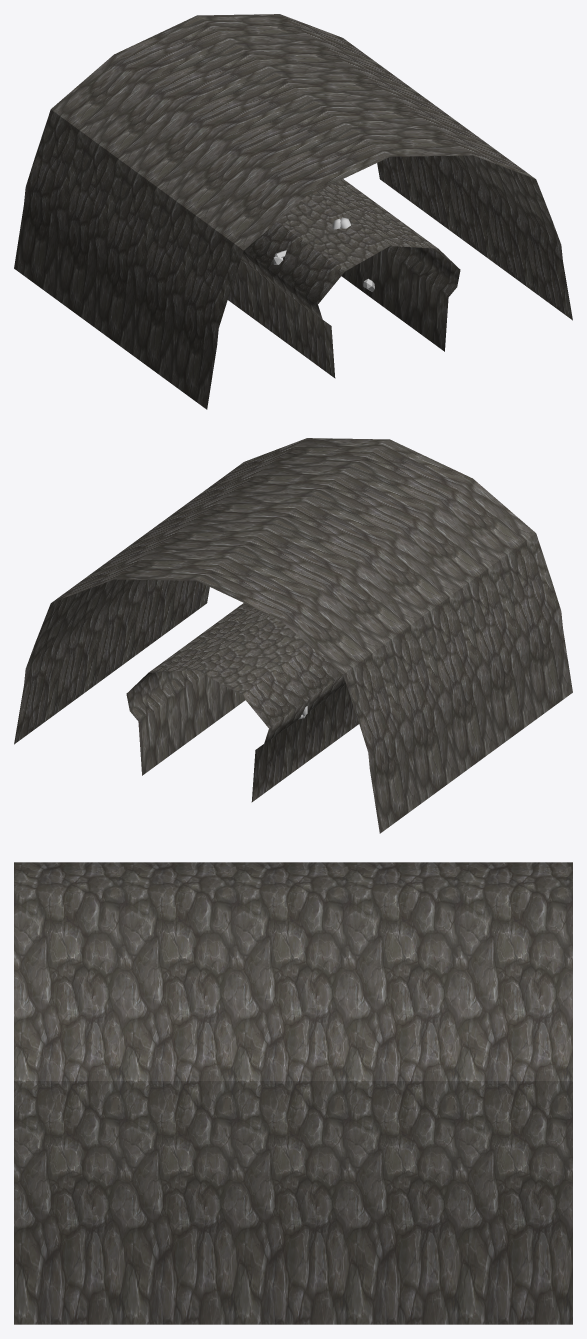
File: Cave_Middle.FBX
3 renders of one model, top to bottom at view 1: azimuth 30°, elevation 25°; view 2: azimuth 150°, elevation 25°; view 3: azimuth 270°, elevation 25°, orthographic. The views are drawn at different scales.
Visible parts, largest first — view 1: Cave_middle001; view 2: Cave_middle001; view 3: Cave_middle001.
Boxes of the visible parts, box(x1,y1,x2,y2) form: Cave_middle001: box(14, 14, 572, 409); Cave_middle001: box(14, 438, 572, 833); Cave_middle001: box(14, 862, 572, 1324).
Bounding box in the file's own units: 1838 × 1001 × 1680.
